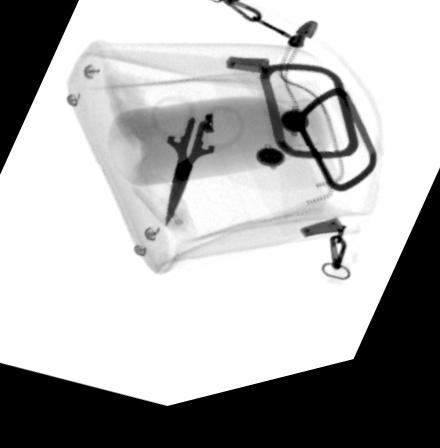Scissors: (146, 101, 248, 235)
